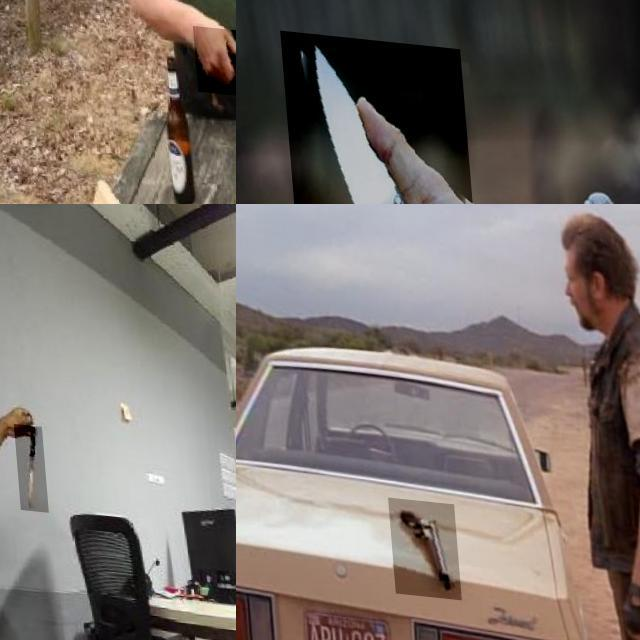-: (278, 26, 478, 204), (185, 20, 236, 94), (8, 418, 42, 506)
gun-knife-thesis - v11 Yolov5 augmented: (382, 490, 454, 592)
